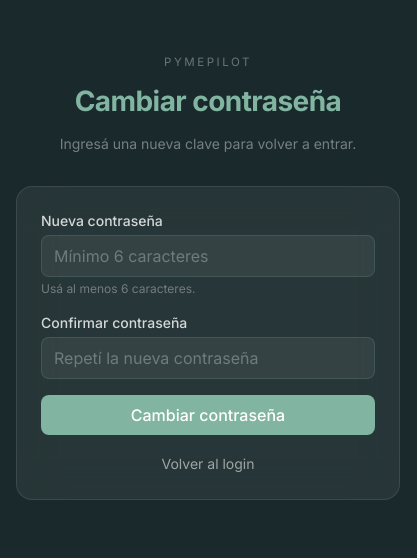
ResetPasswordPage › rejects a password that is shorter than the minimum
Type "short" into the password field labelled "Nueva contraseña". click: (208, 256)
box: [41, 235, 375, 277]
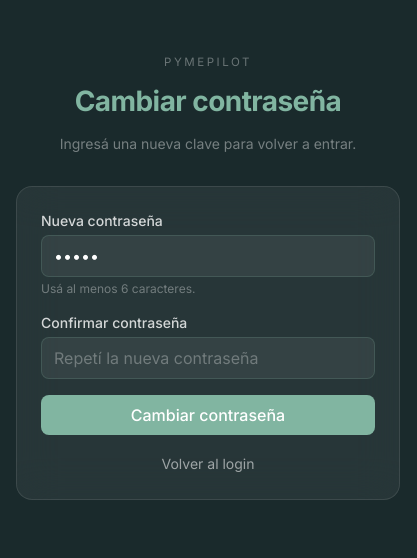
Type "short" into the password field labelled "Confirmar contraseña". click: (208, 358)
box: [41, 337, 375, 379]
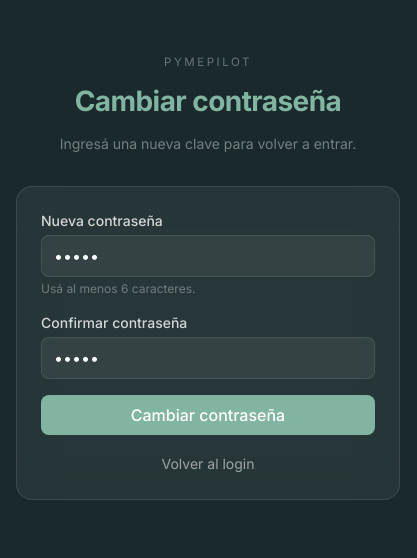
Click the button "Cambiar contraseña". click: (208, 415)
box: [41, 395, 375, 435]
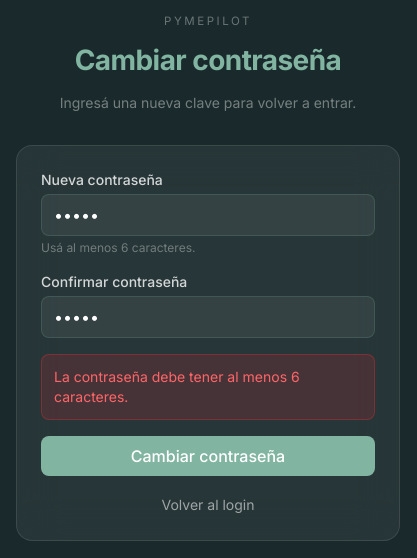
Now the text "La contraseña debe tener al menos 6 caracteres." is shown, box [41, 354, 375, 420]
